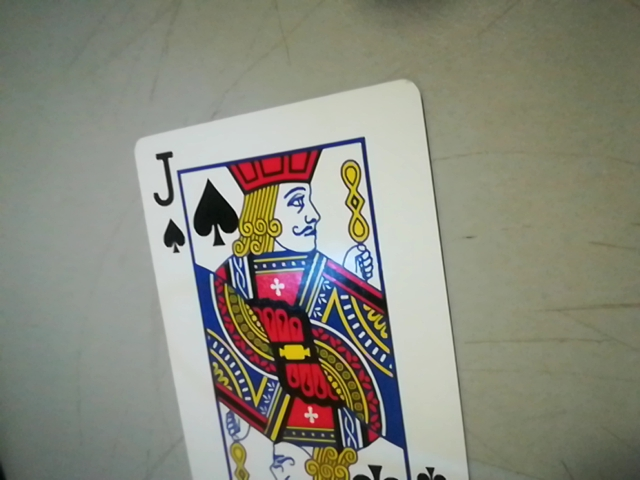ht j: (139, 141, 190, 259)
